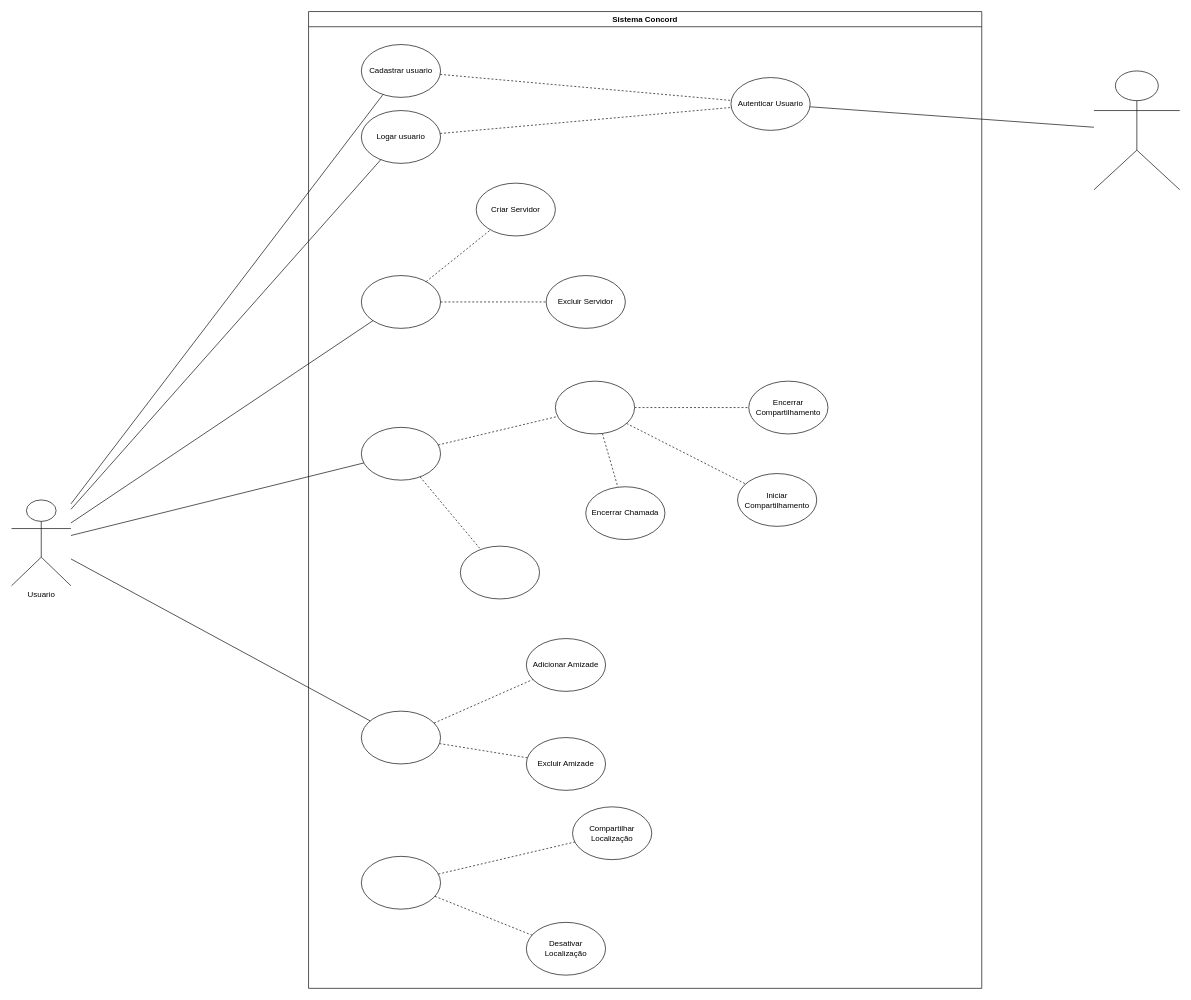
Some shapes in this 1191 by 1000 pixel diagram are drawn without their labels. The centre of each missing label's shape, as x and y in pixels:
Autenticador: the point at 1136,130
Enviar Mensagem: the point at 500,572
Gerenciar Amizades: the point at 401,737
Gerenciar Localização: the point at 401,882
Gerenciar Servidor: the point at 401,301
Iniciar Chamada: the point at 595,407
Iniciar Conversa: the point at 401,453
